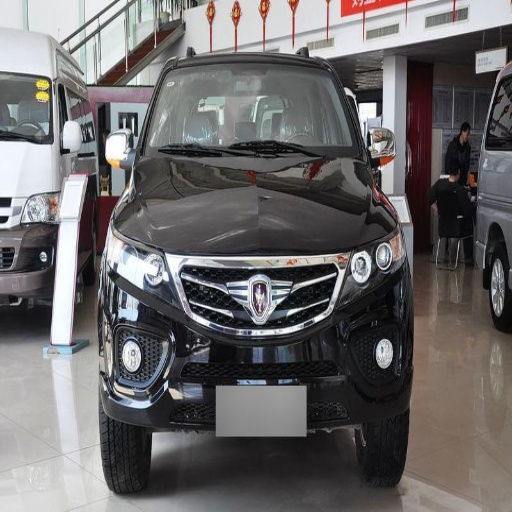front_bumper: (104, 249, 411, 437)
front_right_light: (105, 226, 168, 287)
hood: (114, 153, 394, 265)
